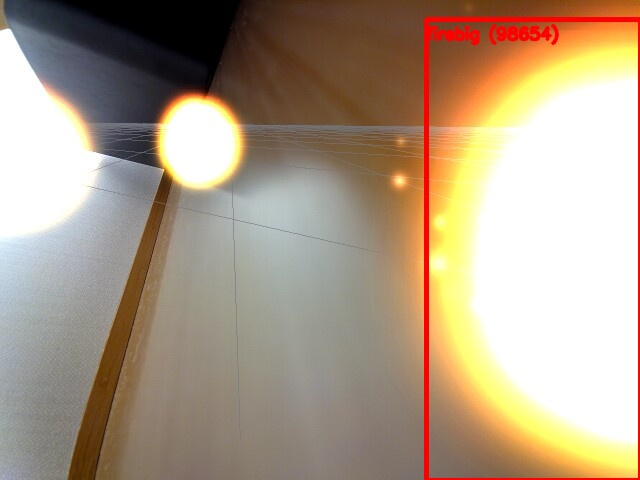firebig: (426, 19, 640, 480)
